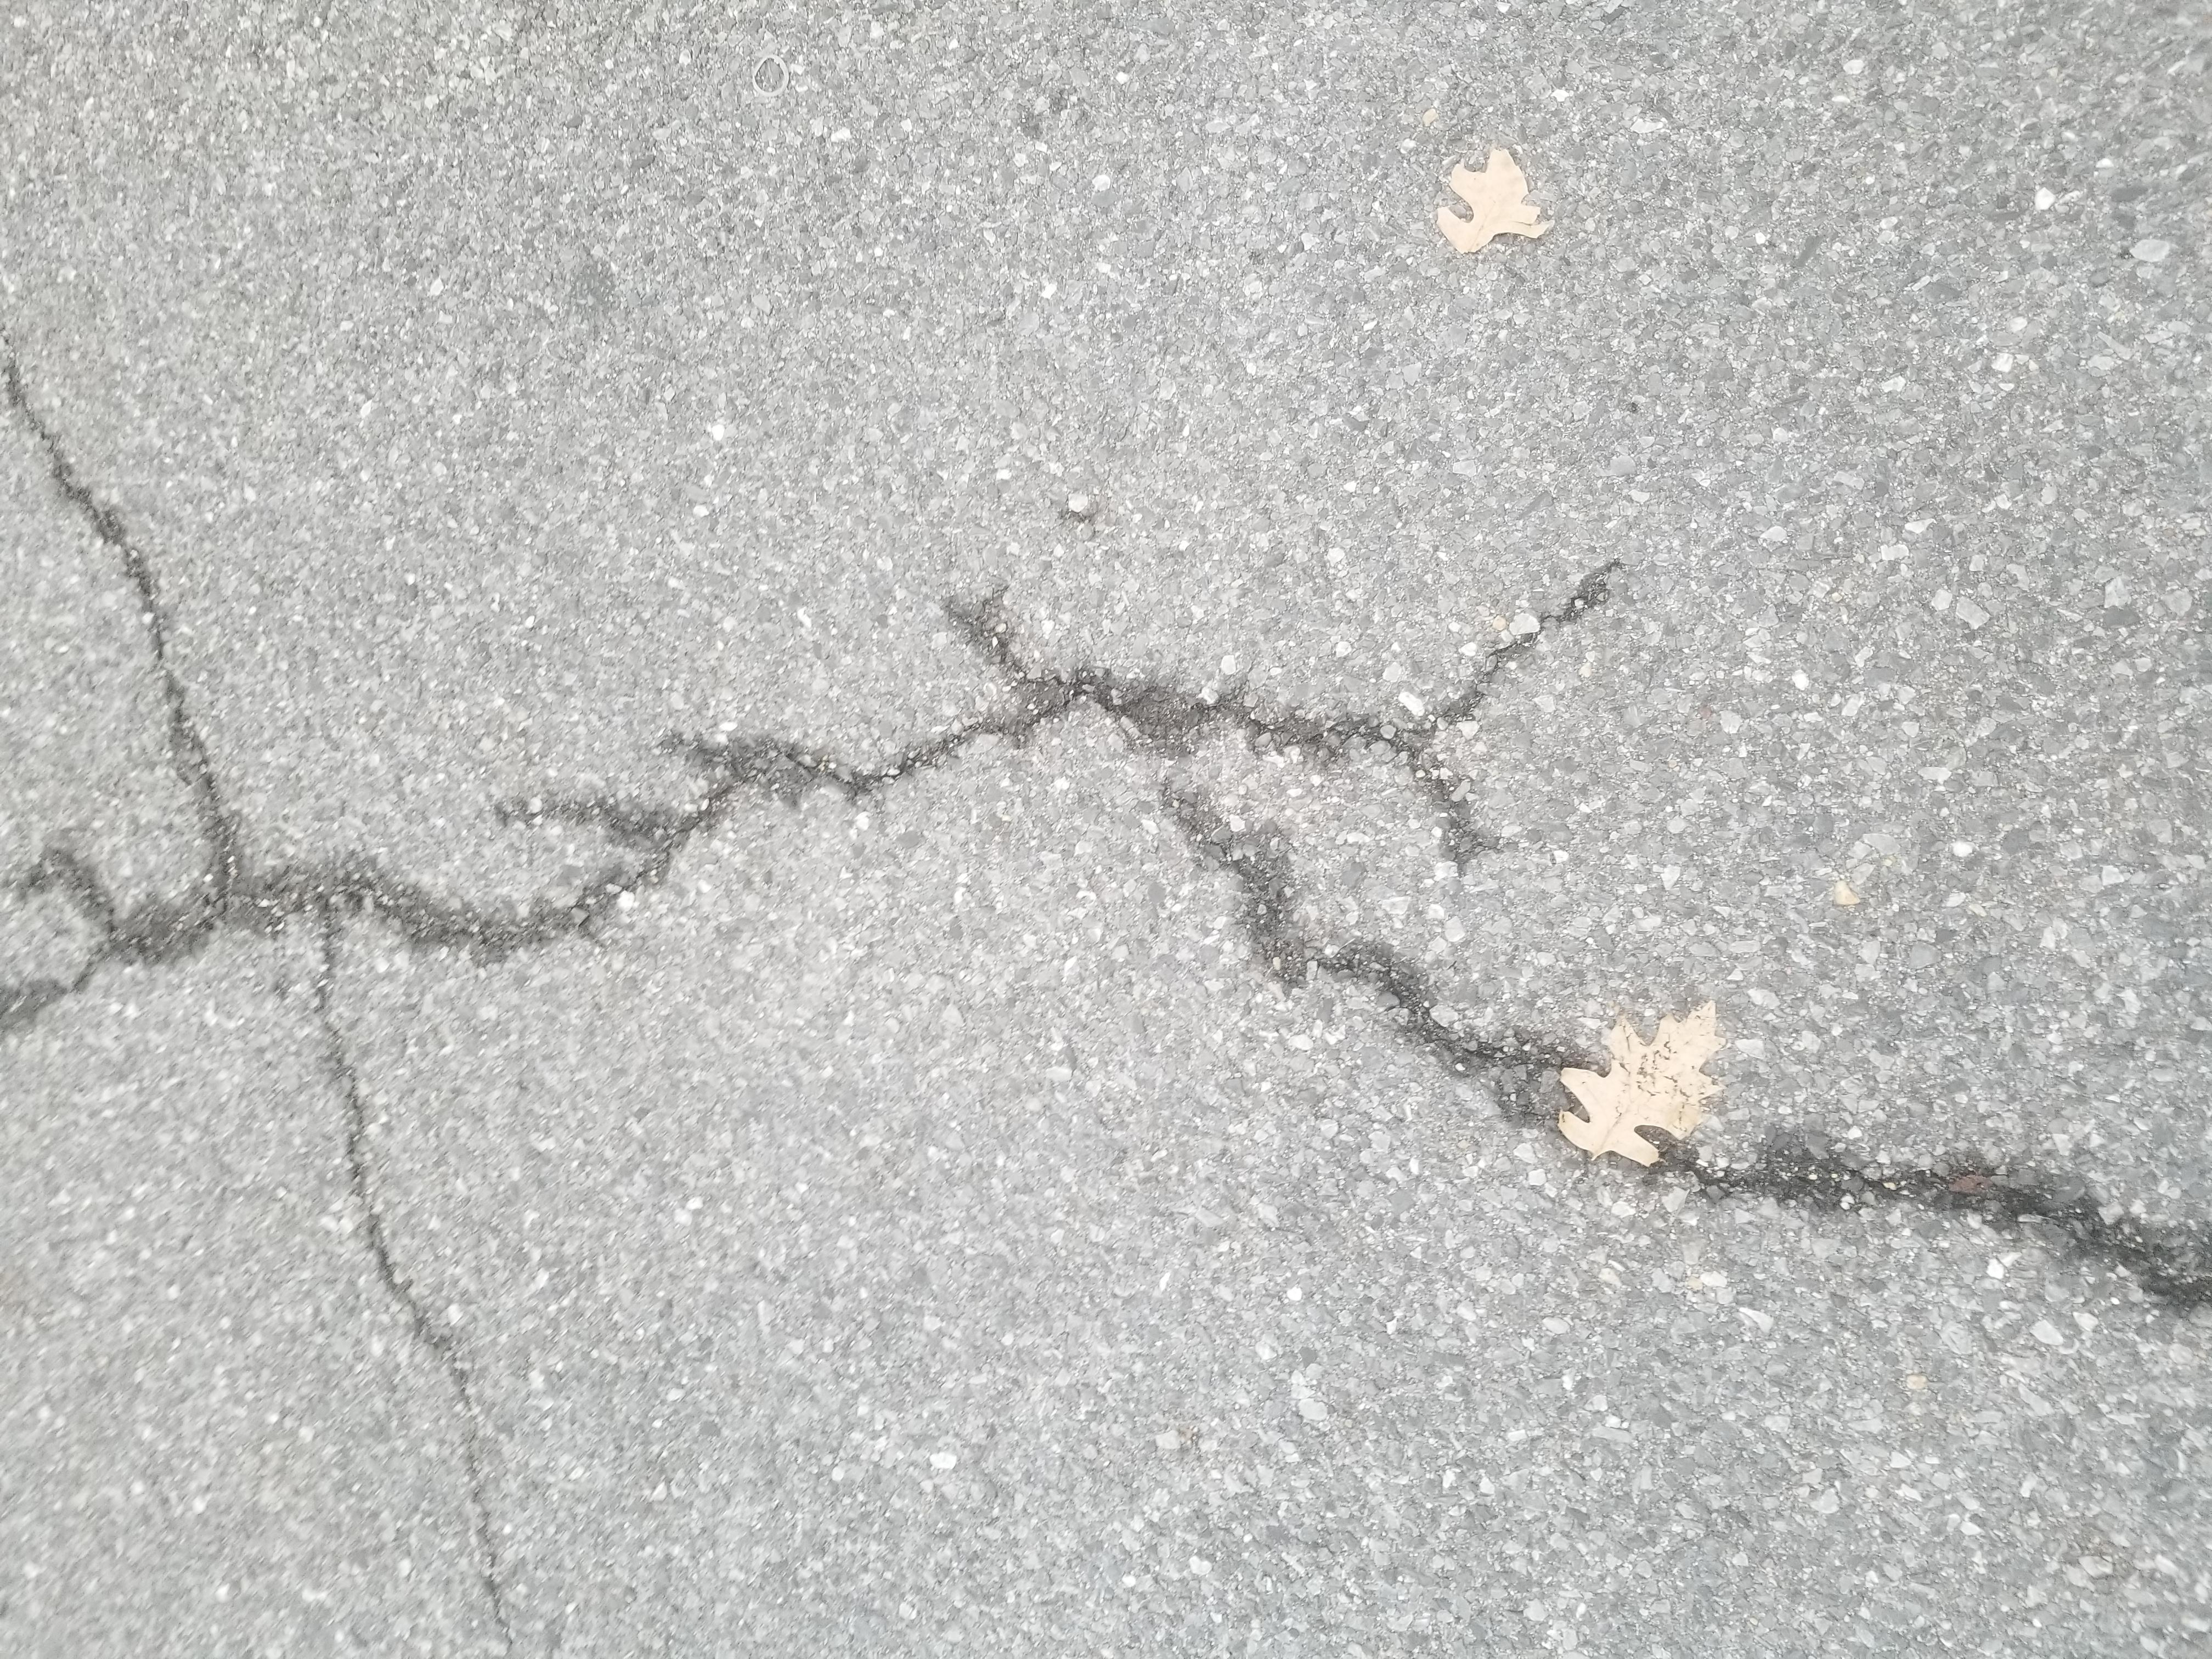crack: (416, 823, 1120, 1659), (791, 3, 1291, 664), (1148, 671, 1508, 1225), (7, 220, 763, 406), (1310, 9, 1796, 141)
